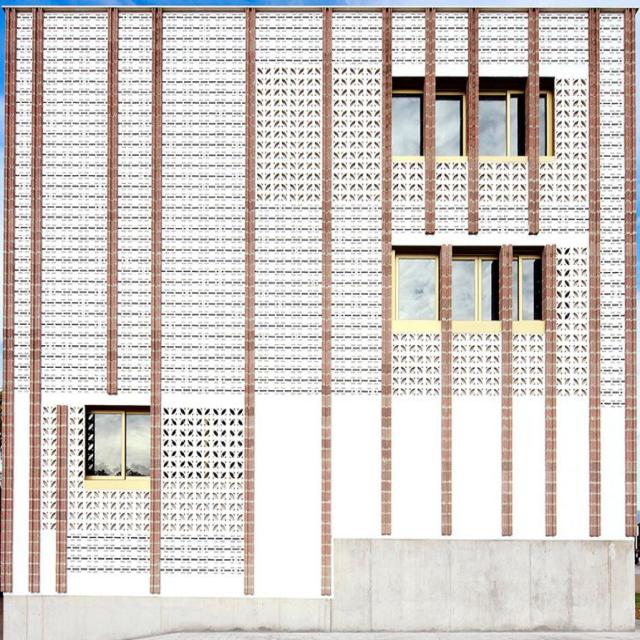window: (90, 407, 153, 475), (476, 94, 522, 156), (451, 256, 493, 321), (396, 259, 436, 319), (434, 91, 468, 157), (388, 92, 421, 157), (514, 257, 540, 320), (538, 94, 546, 154)
